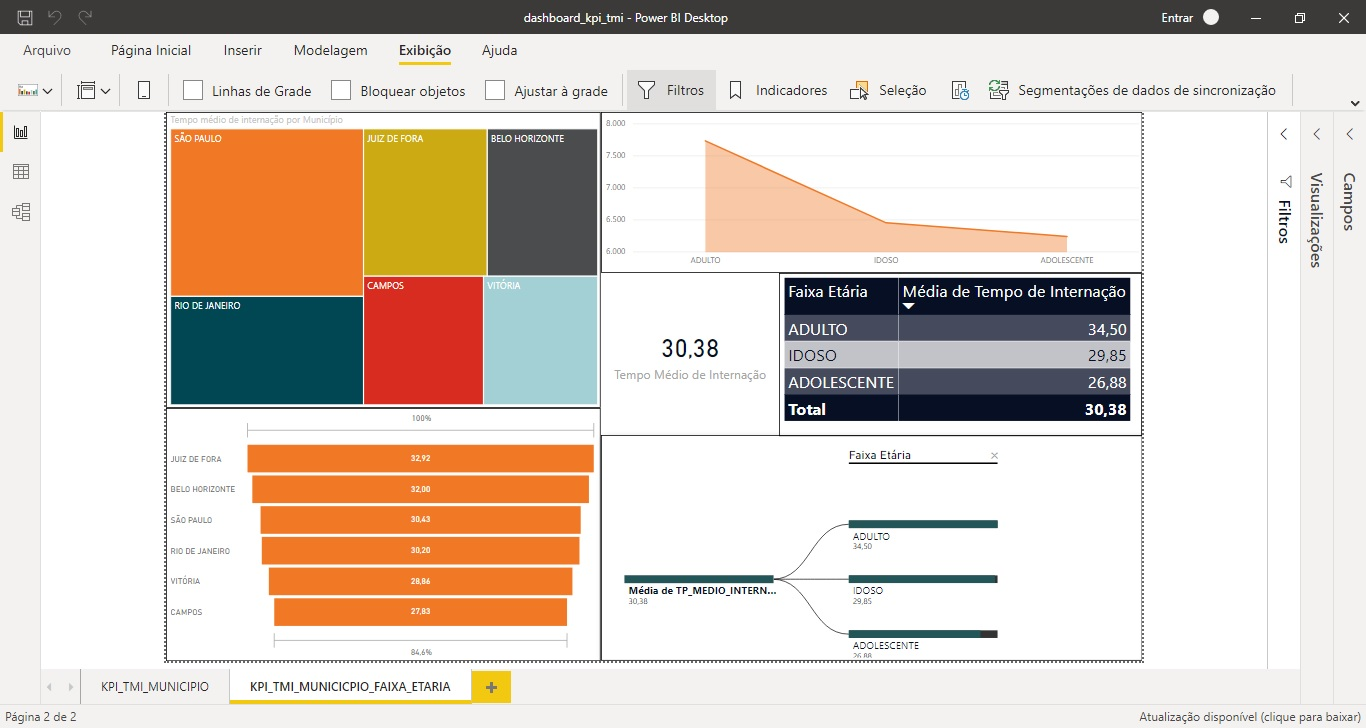

The page's visual inventory and layout, read from the dashboard file:
{"tool":"powerbi","page":{"name":"KPI_TMI_MUNICICPIO_FAIXA_ETARIA","canvas":[1280,720],"ordinal":1},"visuals":[{"type":"tableEx","fields":{"Values":["dataset_artigo.DS_FAIXA_ETARIA","Avg(dataset_artigo.TP_MEDIO_INTERNACAO)"]},"box":[803.7,210.7,476.2,213.5],"z":0},{"type":"areaChart","fields":{"Y":["Sum(dataset_artigo.TP_MEDIO_INTERNACAO)"],"Category":["dataset_artigo.DS_FAIXA_ETARIA"]},"box":[569.9,0,709.9,210.7],"z":1000},{"type":"decompositionTreeVisual","fields":{"Analyze":["Avg(dataset_artigo.TP_MEDIO_INTERNACAO)"],"ExplainBy":["dataset_artigo.DS_FAIXA_ETARIA"]},"box":[569.9,424.2,709.9,295.8],"z":2000},{"type":"treemap","title":"Tempo médio de internação por Município","fields":{"Values":["Sum(dataset_artigo.TP_MEDIO_INTERNACAO)"],"Group":["dataset_artigo.NM_MUNICIPIO"]},"box":[0,0,569.9,388.1],"z":3000},{"type":"funnel","fields":{"Category":["dataset_artigo.NM_MUNICIPIO"],"Y":["Avg(dataset_artigo.TP_MEDIO_INTERNACAO)"]},"box":[0,388.1,569.9,331.9],"z":3001},{"type":"card","fields":{"Values":["Avg(dataset_artigo.TP_MEDIO_INTERNACAO)"]},"box":[569.9,210.7,233.7,213.5],"z":3002}]}

Visuals, with their boxes on the page's 1280x720 design canvas (x1, y1, x2, y2). These are canvas units, not pixel positions in the 1366x728 screenshot, which may show the page scaled, cropped or inside an application window:
tableEx - dataset_artigo.DS_FAIXA_ETARIA x Avg(dataset_artigo.TP_MEDIO_INTERNACAO): detection(804, 211, 1280, 424)
areaChart - Sum(dataset_artigo.TP_MEDIO_INTERNACAO) x dataset_artigo.DS_FAIXA_ETARIA: detection(570, 0, 1280, 211)
decompositionTreeVisual - Avg(dataset_artigo.TP_MEDIO_INTERNACAO) x dataset_artigo.DS_FAIXA_ETARIA: detection(570, 424, 1280, 720)
"Tempo médio de internação por Município" treemap: detection(0, 0, 570, 388)
funnel - dataset_artigo.NM_MUNICIPIO x Avg(dataset_artigo.TP_MEDIO_INTERNACAO): detection(0, 388, 570, 720)
card - Avg(dataset_artigo.TP_MEDIO_INTERNACAO): detection(570, 211, 804, 424)
